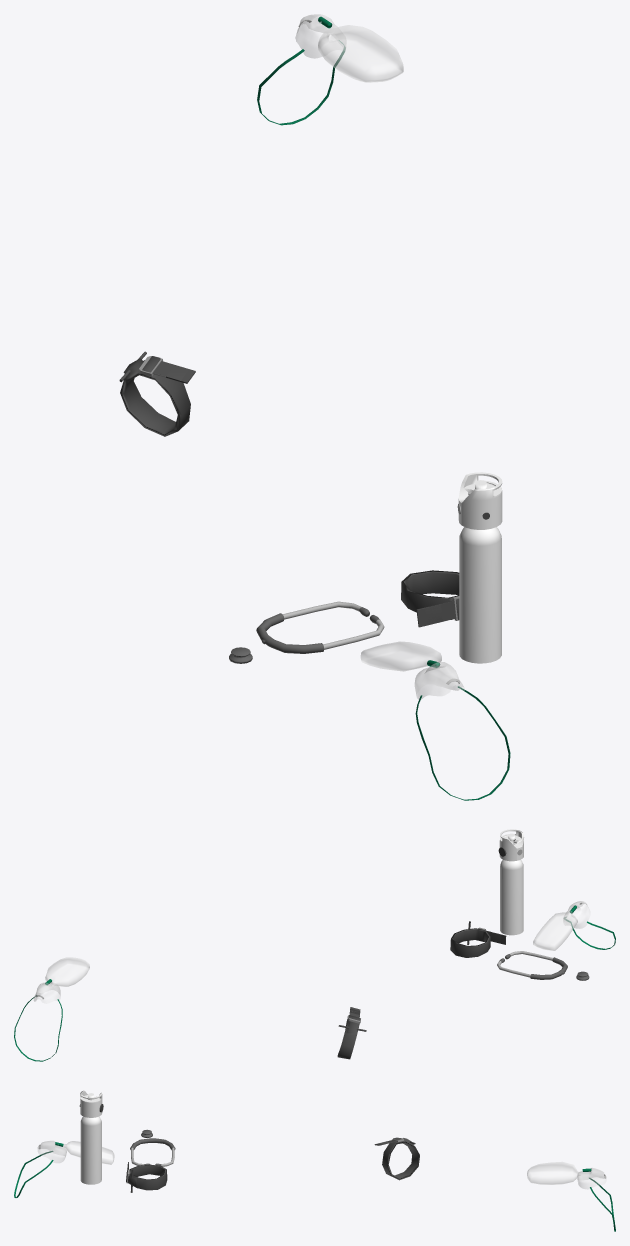
File: Inventory_FixedOrigins.fbx
3 views of the same model, one above another, from view 1: azimuth 30°, elevation 25°; view 2: azimuth 150°, elevation 25°; view 3: azimuth 270°, elevation 25° (orthographic). The views are drawn at different scales.
Parts seen in each view (by area): view 1: MainCannister, Reservoir, TourniquetBase.001, TourniquetBase, Stetoscope_Upper, Reservoir.001, MainMask, MainMask.001; view 2: MainCannister, Reservoir.001, TourniquetBase, Reservoir, Stetoscope_Upper, TourniquetBase.001, MainMask, MainMask.001; view 3: MainCannister, Reservoir, TourniquetBase, TourniquetBase.001, MainMask.001, MainMask, Stetoscope_Upper, Reservoir.001, Strap.001.
Boxes of the visible parts, x1,y1,x2,y2 form: MainCannister: [458, 472, 502, 663]; Reservoir: [318, 25, 403, 82]; TourniquetBase.001: [120, 356, 190, 436]; TourniquetBase: [401, 570, 459, 625]; Stetoscope_Upper: [256, 601, 384, 653]; Reservoir.001: [360, 641, 441, 671]; MainMask: [295, 14, 346, 58]; MainMask.001: [414, 662, 464, 699]; MainCannister: [499, 829, 524, 935]; Reservoir.001: [533, 911, 577, 950]; TourniquetBase: [450, 928, 501, 957]; Reservoir: [45, 957, 89, 986]; Stetoscope_Upper: [497, 951, 567, 979]; TourniquetBase.001: [337, 1008, 360, 1059]; MainMask: [34, 982, 60, 1003]; MainMask.001: [563, 901, 590, 928]; MainCannister: [80, 1090, 102, 1184]; Reservoir: [527, 1161, 580, 1184]; TourniquetBase: [126, 1164, 167, 1190]; TourniquetBase.001: [378, 1137, 419, 1180]; MainMask.001: [37, 1140, 66, 1162]; MainMask: [577, 1168, 606, 1189]; Stetoscope_Upper: [130, 1138, 175, 1166]; Reservoir.001: [63, 1141, 114, 1164]; Strap.001: [14, 1151, 53, 1197].
Size of the model in its own units: 119 by 53.63 by 219.
